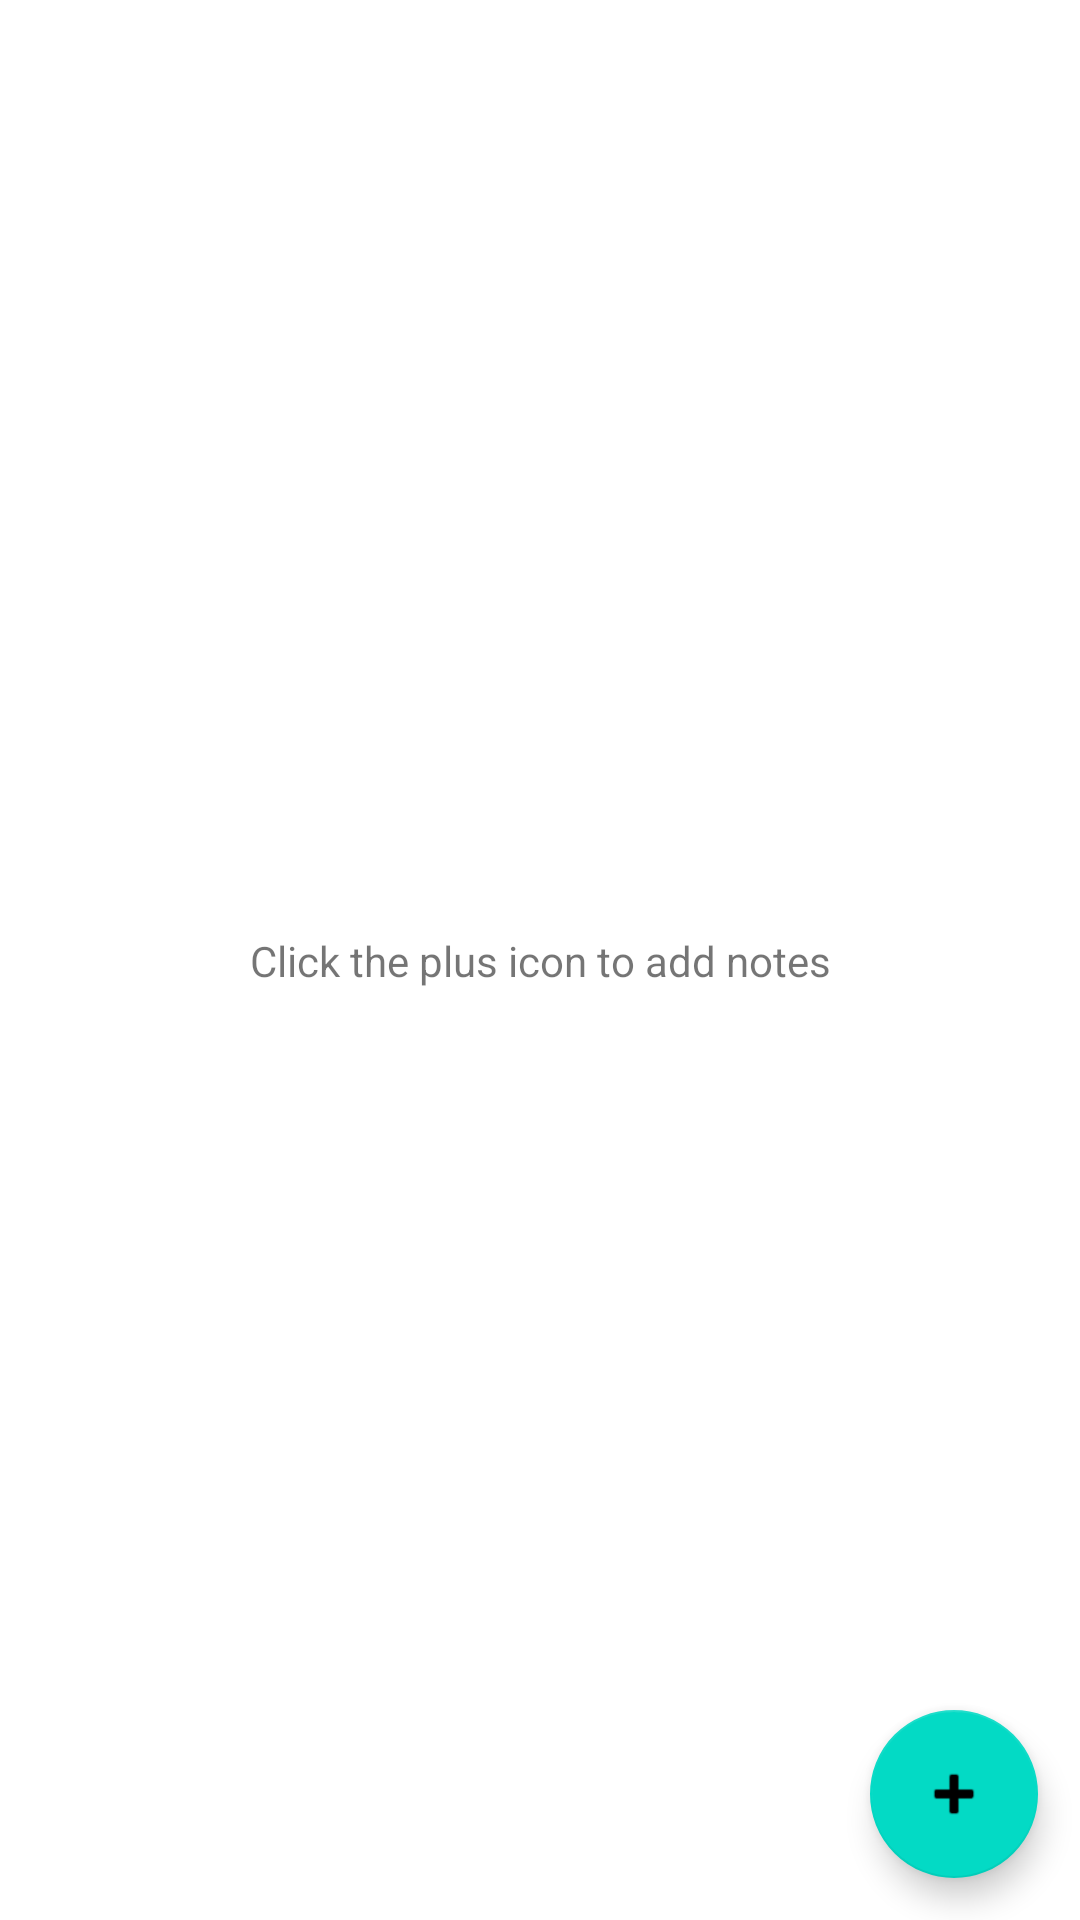

Icon bounding boxes for this 1080px×1920px phone screenshot, format (x1, y1, x2, y2):
New record: (870, 1710, 1038, 1878)
